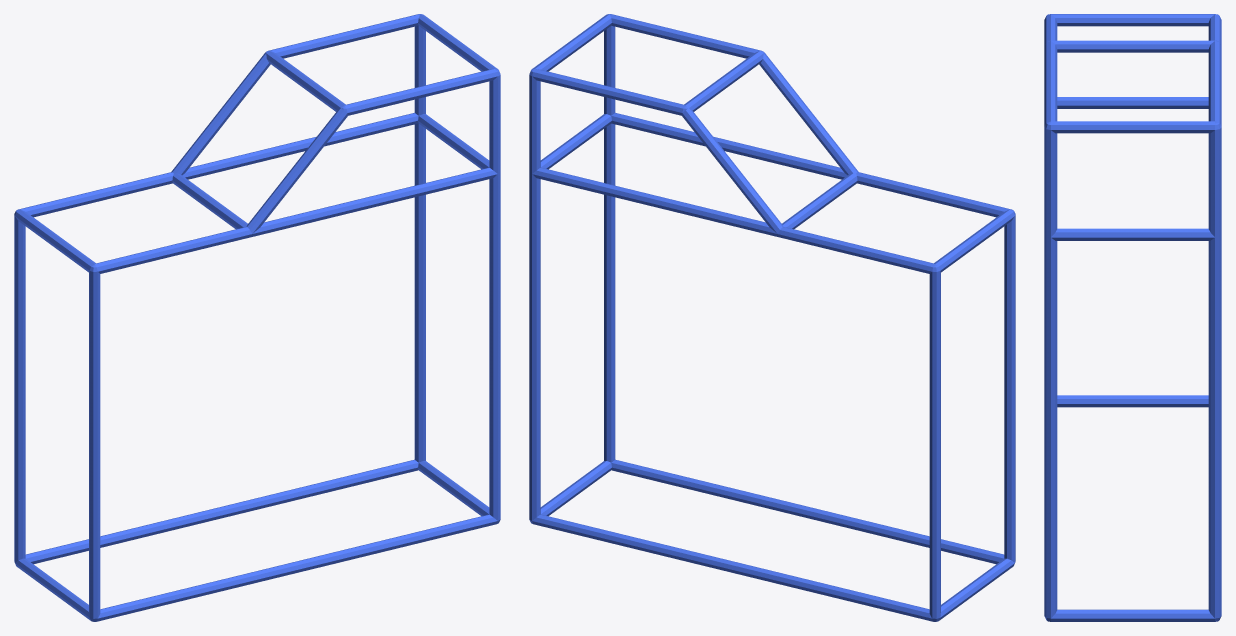
File: tes.dae
3 renders of one model, left to right at view 1: azimuth 30°, elevation 25°; view 2: azimuth 150°, elevation 25°; view 3: azimuth 270°, elevation 25°, orthographic. The views are drawn at different scales.
Visible parts, largest first — view 1: 晶格_1.1; view 2: 晶格_1.1; view 3: 晶格_1.1.
Part boxes in pixels (x1=…): 晶格_1.1: x1=14, y1=14, x2=500, y2=621; 晶格_1.1: x1=529, y1=14, x2=1015, y2=621; 晶格_1.1: x1=1044, y1=14, x2=1221, y2=621.
Size of the model in its own units: 1.6 by 1.7 by 0.5446.
Materials: 1 (1 with a texture image).
